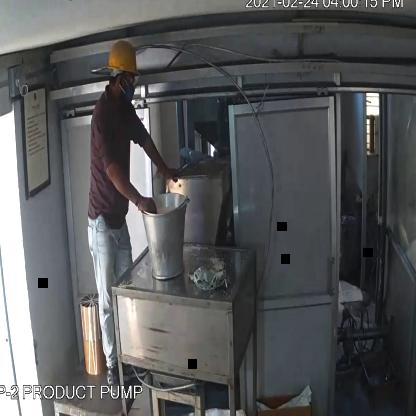helmet: (104, 34, 142, 87)
